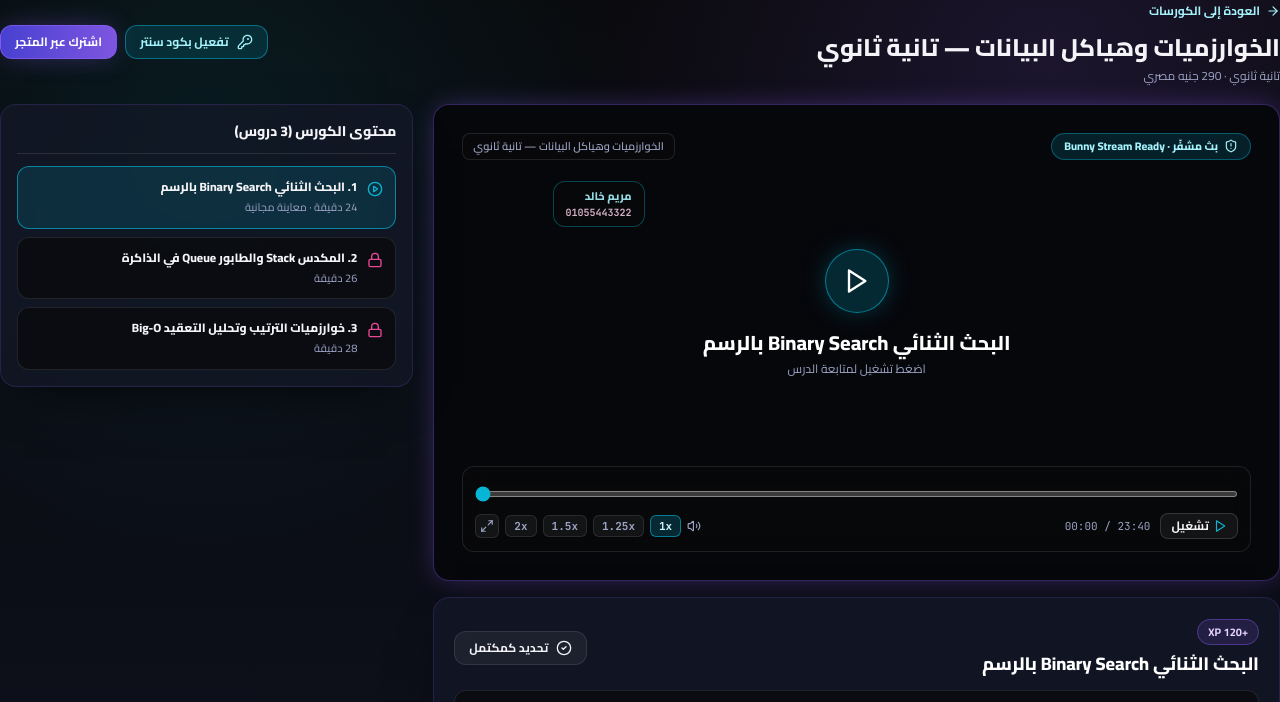
it: Protected Video Player & Course Classroom › plays free preview lessons and locks paid lessons until unlocked
Expected: the element with test id "video-watermark" shows "مريم خالد", x1=585 y1=186 x2=632 y2=206
Expected: the element with test id "video-watermark" shows "01055443322", x1=566 y1=206 x2=632 y2=218
# Lesson 2 is locked
Click the button "2. المكدس Stack والطابور Queue في الذاكرة 26 دقيقة". click: {"x": 207, "y": 268}
box: x1=17 y1=236 x2=396 y2=299
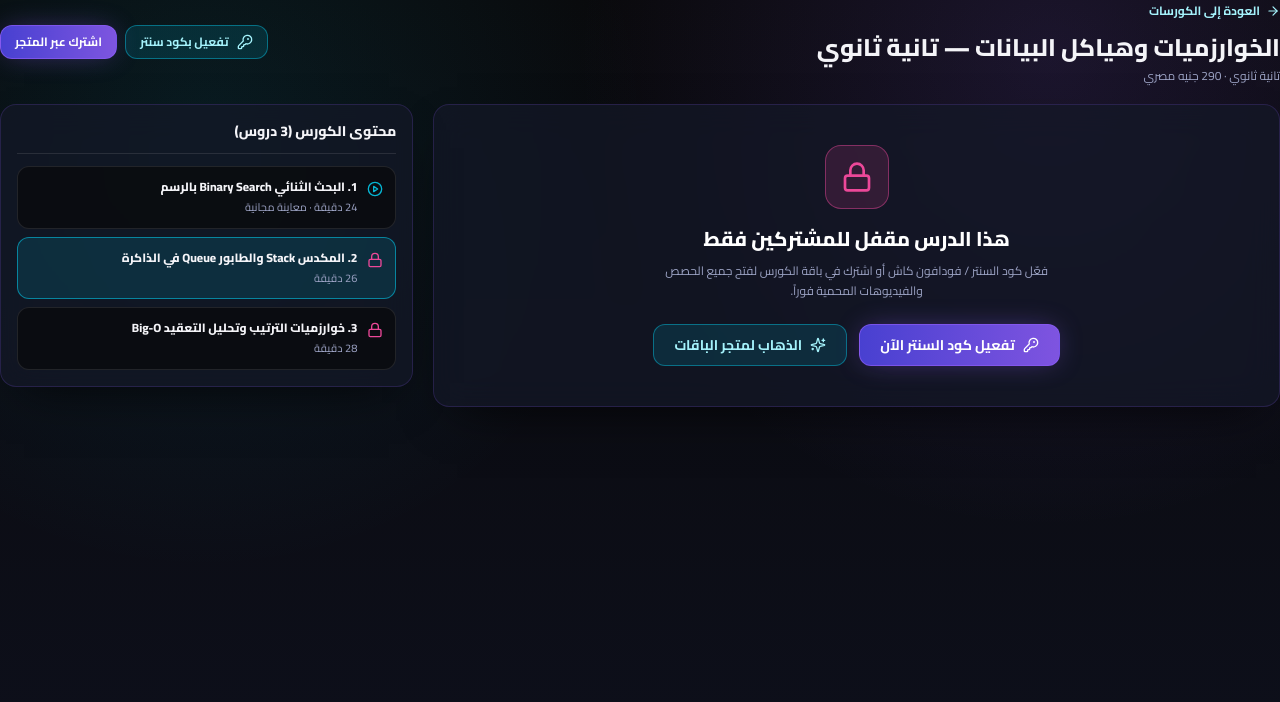
Expected: the element with test id "locked-lesson-card" is shown, x1=433 y1=104 x2=1279 y2=407
